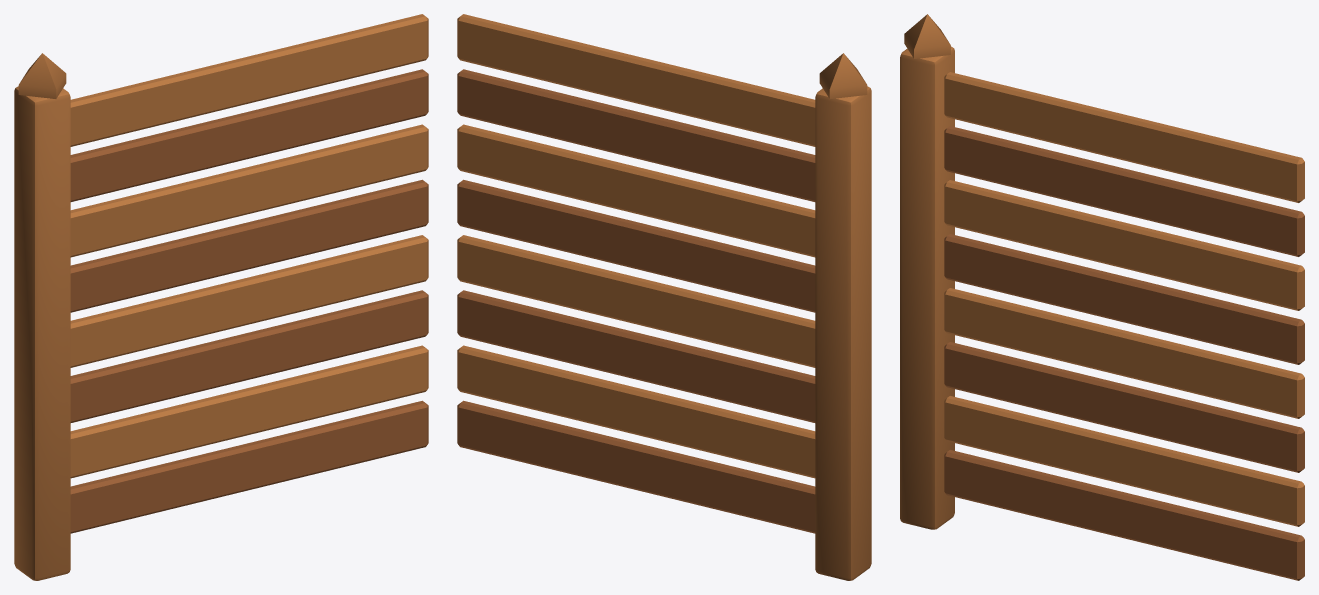
File: cerca_ripada_1m.glb
The picture shows the model from 3 angles, left to right: view 1: azimuth 30°, elevation 25°; view 2: azimuth 150°, elevation 25°; view 3: azimuth 330°, elevation 25°; orthographic projection. The views are drawn at different scales.
Parts seen in each view (by area): view 1: cerca_ripada_1m; view 2: cerca_ripada_1m; view 3: cerca_ripada_1m.
Boxes of the visible parts, x1,y1,x2,y2 form: cerca_ripada_1m: (14,14,428,580); cerca_ripada_1m: (457,14,871,580); cerca_ripada_1m: (900,14,1304,580).
Size of the model in its own units: 1.06 by 1.29 by 0.124.
Materials: 1 (1 with a texture image).
